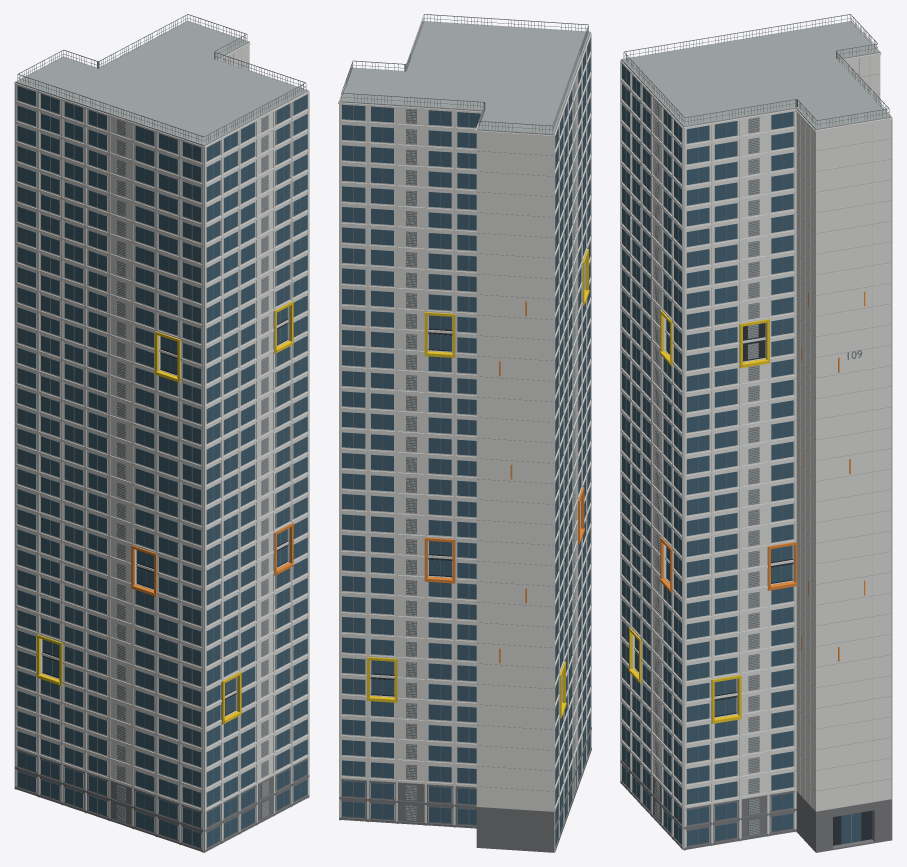
Rendered from bespoke-songpa-helio-city-109.glb.
3 renders of one model, left to right at view 1: azimuth 30°, elevation 25°; view 2: azimuth 150°, elevation 25°; view 3: azimuth 270°, elevation 25°, orthographic. The views are drawn at different scales.
Visible parts, largest first — view 1: Helio109_editable_Helio109_dark_blue_grey_glazing, Helio109_editable_Helio109_white_slab_frames, Helio109_editable_Helio109_grey_service_grille, Helio109_editable_Helio109_low_roof_deck, Helio109_editable_Helio109_blankwall_grey_panels, Helio109_editable_Helio109_dark_grey_twofloor_base, Helio109_editable_Helio109_yellow_projecting_rectangular_fra, Helio109_editable_Helio109_orange_narrow_accent; view 2: Helio109_editable_Helio109_white_slab_frames, Helio109_editable_Helio109_dark_blue_grey_glazing, Helio109_editable_Helio109_low_roof_deck, Helio109_editable_Helio109_grey_service_grille, Helio109_editable_Helio109_dark_grey_twofloor_base, Helio109_editable_Helio109_blankwall_grey_panels, Helio109_editable_Helio109_yellow_projecting_rectangular_fra, Helio109_editable_Helio109_orange_narrow_accent; view 3: Helio109_editable_Helio109_white_slab_frames, Helio109_editable_Helio109_dark_blue_grey_glazing, Helio109_editable_Helio109_grey_service_grille, Helio109_editable_Helio109_low_roof_deck, Helio109_editable_Helio109_blankwall_grey_panels, Helio109_editable_Helio109_dark_grey_twofloor_base, Helio109_editable_Helio109_yellow_projecting_rectangular_fra, Helio109_editable_Helio109_deep_shaded_frame_recess, Helio109_editable_Helio109_orange_narrow_accent.
Boxes of the visible parts, x1,y1,x2,y2 form: Helio109_editable_Helio109_dark_blue_grey_glazing: (17,86,307,847); Helio109_editable_Helio109_white_slab_frames: (14,42,309,852); Helio109_editable_Helio109_grey_service_grille: (17,14,306,844); Helio109_editable_Helio109_low_roof_deck: (15,20,308,146); Helio109_editable_Helio109_blankwall_grey_panels: (117,49,268,821); Helio109_editable_Helio109_dark_grey_twofloor_base: (14,749,309,852); Helio109_editable_Helio109_yellow_projecting_rectangular_fra: (36,301,293,724); Helio109_editable_Helio109_orange_narrow_accent: (131,523,293,596); Helio109_editable_Helio109_white_slab_frames: (338,22,591,852); Helio109_editable_Helio109_dark_blue_grey_glazing: (342,38,590,845); Helio109_editable_Helio109_low_roof_deck: (339,21,590,135); Helio109_editable_Helio109_grey_service_grille: (341,14,588,842); Helio109_editable_Helio109_dark_grey_twofloor_base: (339,727,591,852); Helio109_editable_Helio109_blankwall_grey_panels: (406,80,575,820); Helio109_editable_Helio109_yellow_projecting_rectangular_fra: (367,249,589,718); Helio109_editable_Helio109_orange_narrow_accent: (424,301,584,663); Helio109_editable_Helio109_white_slab_frames: (620,23,892,850); Helio109_editable_Helio109_dark_blue_grey_glazing: (622,64,861,845); Helio109_editable_Helio109_grey_service_grille: (623,14,890,843); Helio109_editable_Helio109_low_roof_deck: (621,21,891,129); Helio109_editable_Helio109_blankwall_grey_panels: (655,57,872,834); Helio109_editable_Helio109_dark_grey_twofloor_base: (620,743,891,852); Helio109_editable_Helio109_yellow_projecting_rectangular_fra: (628,310,769,723); Helio109_editable_Helio109_deep_shaded_frame_recess: (635,323,871,845); Helio109_editable_Helio109_orange_narrow_accent: (660,291,865,661).
Bounding box in the file's own units: 31.7 × 99 × 33.42.
